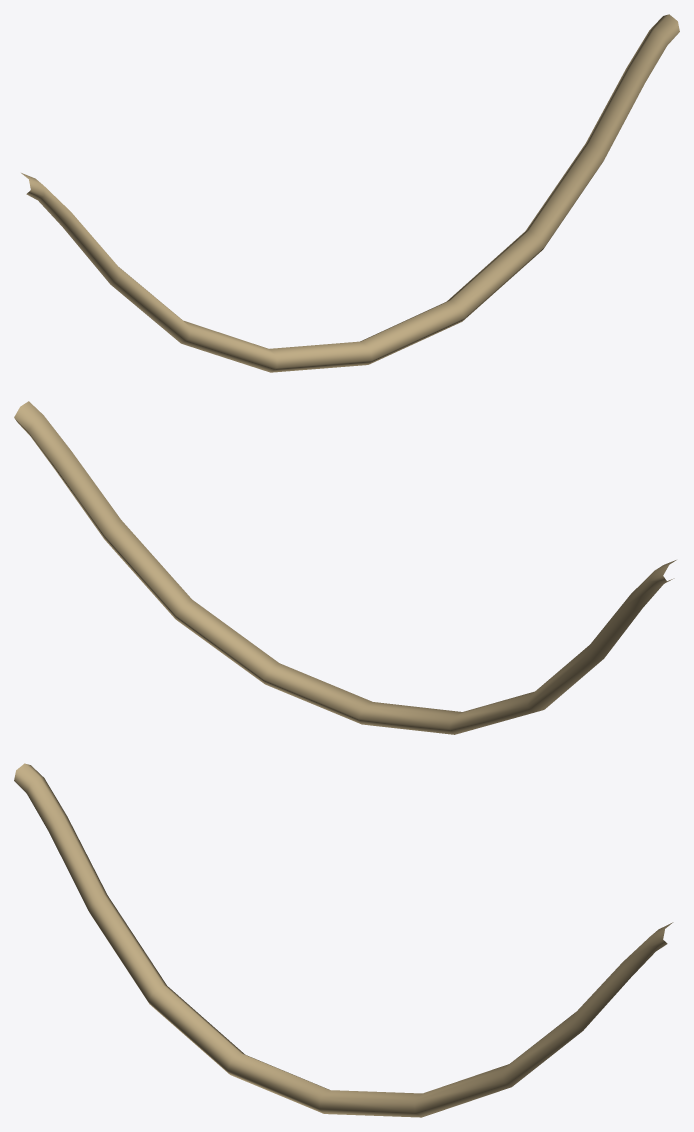
Rendered from ChineseLampRopeSmall_01.glb.
3 renders of one model, top to bottom at view 1: azimuth 30°, elevation 25°; view 2: azimuth 150°, elevation 25°; view 3: azimuth 330°, elevation 25°, orthographic.
Parts seen in each view (by area): view 1: ChineseLampRopeSmall_01; view 2: ChineseLampRopeSmall_01; view 3: ChineseLampRopeSmall_01.
Part boxes in pixels (<box>): ChineseLampRopeSmall_01: <box>21,14,679,372</box>; ChineseLampRopeSmall_01: <box>14,401,676,734</box>; ChineseLampRopeSmall_01: <box>14,763,673,1117</box>.
Bounding box in the file's own units: 1 × 0.3735 × 0.094.
Materials: 1 (1 with a texture image).
